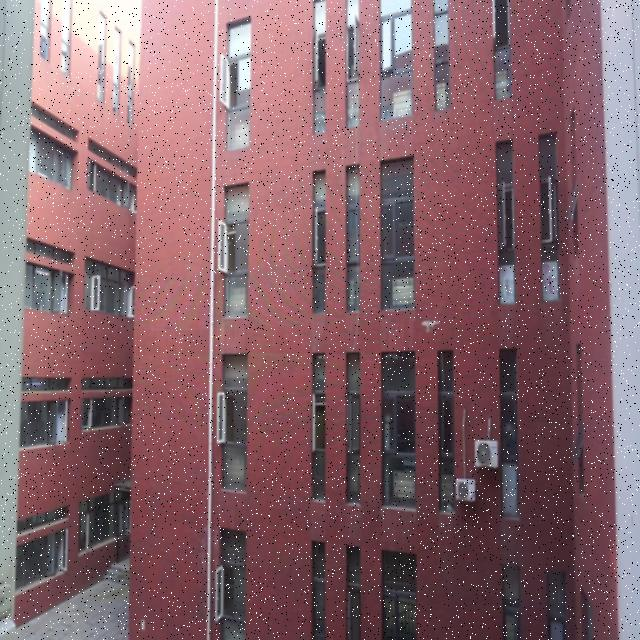UAV: (421, 320, 439, 332)
